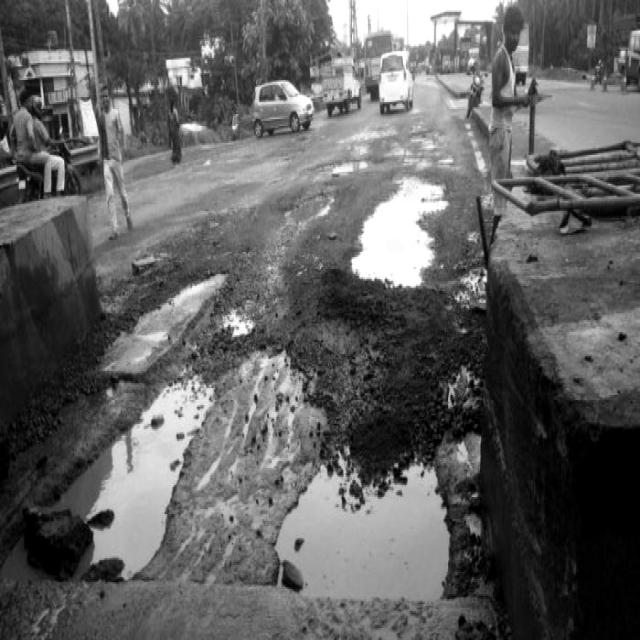pathole: (273, 379, 503, 640), (5, 370, 231, 625), (279, 137, 465, 353)
